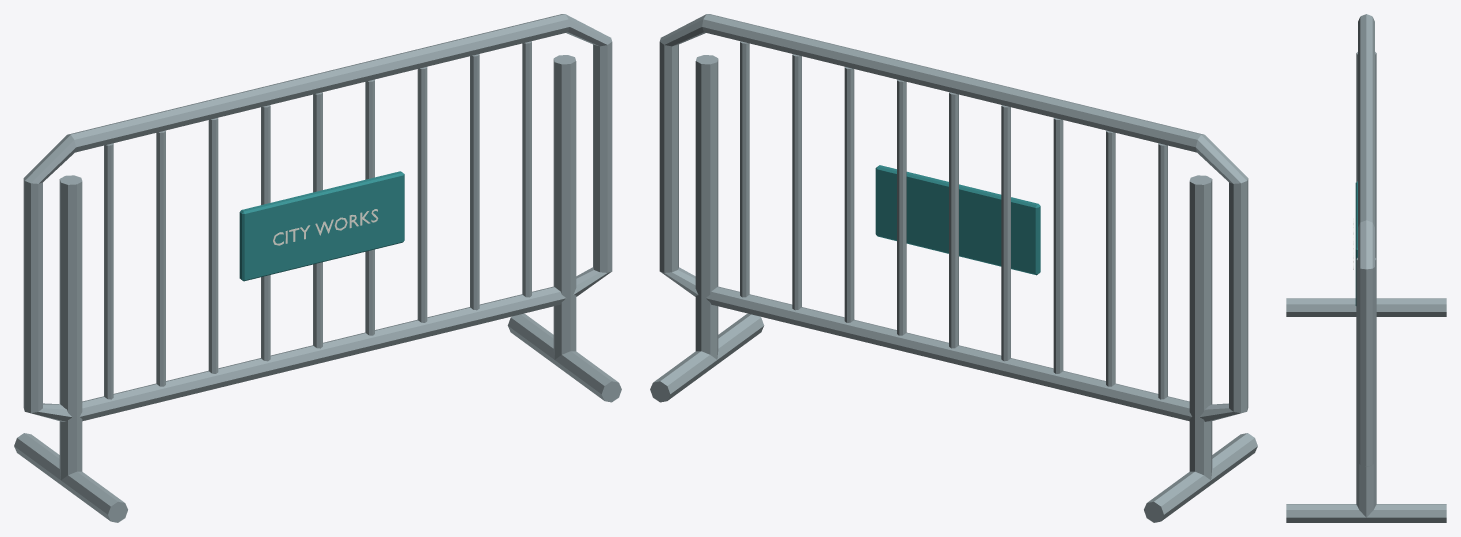
File: Barrier_Metal_Crowd.glb
The picture shows the model from 3 angles, left to right: view 1: azimuth 30°, elevation 25°; view 2: azimuth 150°, elevation 25°; view 3: azimuth 270°, elevation 25°; orthographic projection. The views are drawn at different scales.
Parts seen in each view (by area): view 1: Barrier_Metal_Crowd; view 2: Barrier_Metal_Crowd; view 3: Barrier_Metal_Crowd.
Boxes of the visible parts, <box> form: Barrier_Metal_Crowd: <box>14,14,621,522</box>; Barrier_Metal_Crowd: <box>650,14,1257,522</box>; Barrier_Metal_Crowd: <box>1286,14,1446,522</box>.
Bounding box in the file's own units: 2.02 × 1.16 × 0.56.
